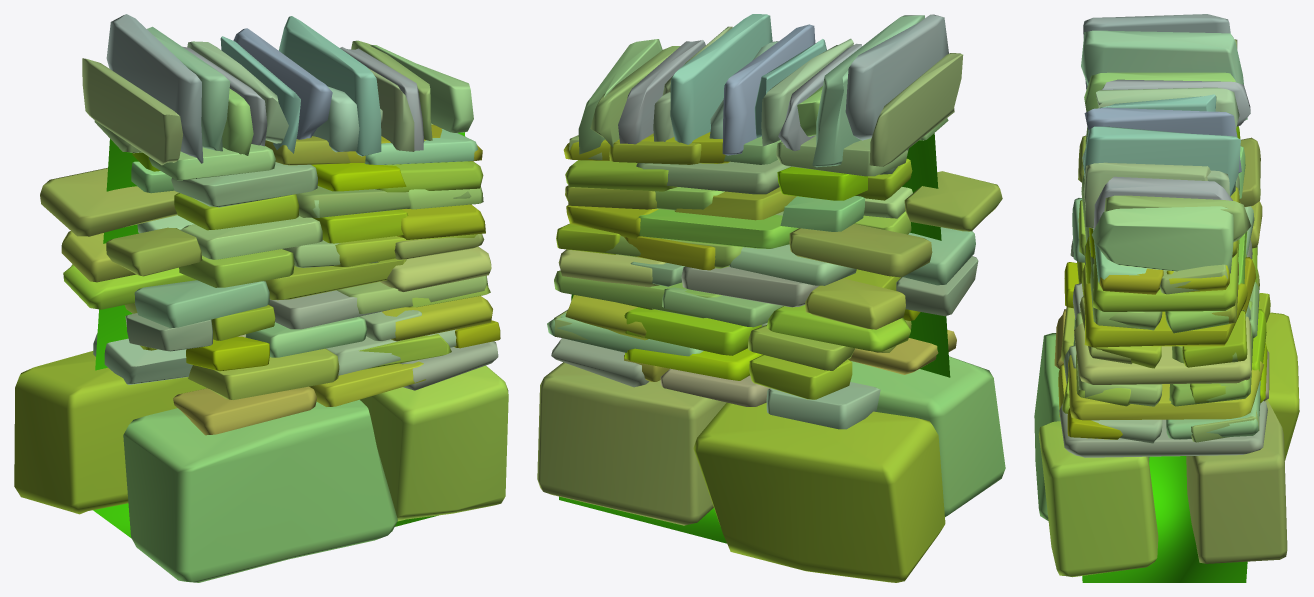
File: SM_Prop_wall_end_6.glb
3 views of the same model, side by side, from view 1: azimuth 30°, elevation 25°; view 2: azimuth 150°, elevation 25°; view 3: azimuth 270°, elevation 25° (orthographic). The views are drawn at different scales.
Visible parts, largest first — view 1: SM_Prop_wall_end_6; view 2: SM_Prop_wall_end_6; view 3: SM_Prop_wall_end_6.
Part boxes in pixels (x1,y1,x2,y2): SM_Prop_wall_end_6: (14, 14, 508, 582); SM_Prop_wall_end_6: (537, 14, 1005, 582); SM_Prop_wall_end_6: (1034, 14, 1299, 582).
Size of the model in its own units: 1.18 by 1.51 by 0.819.
